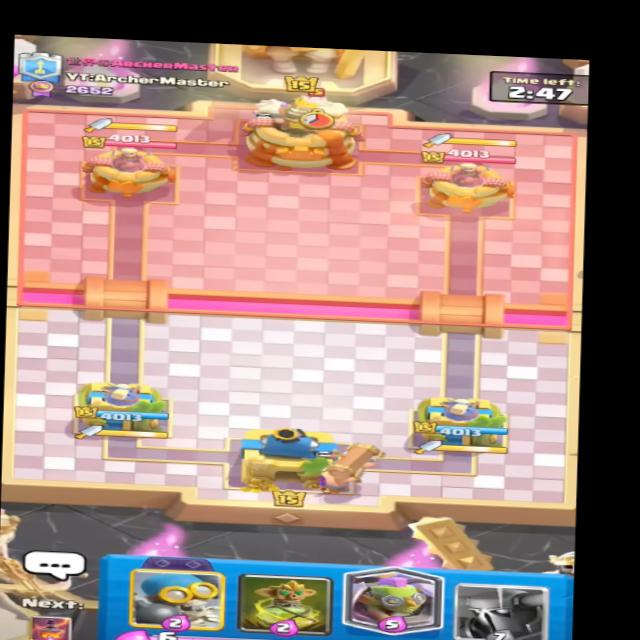Espirit: (300, 86, 343, 109)
